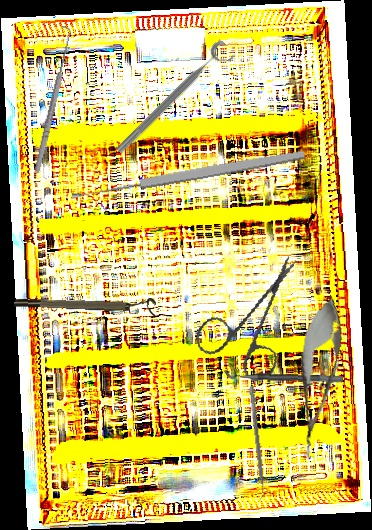Fixation Ring: (112, 37, 238, 164), (14, 290, 156, 317), (223, 361, 344, 384)
Hook Surgical: (27, 24, 76, 175)
Iris Scissors: (182, 254, 322, 393)
Micro Scissor: (286, 293, 350, 463)
Spatula Surgical: (244, 385, 268, 502)
Surgical Spoon: (70, 147, 306, 203)
